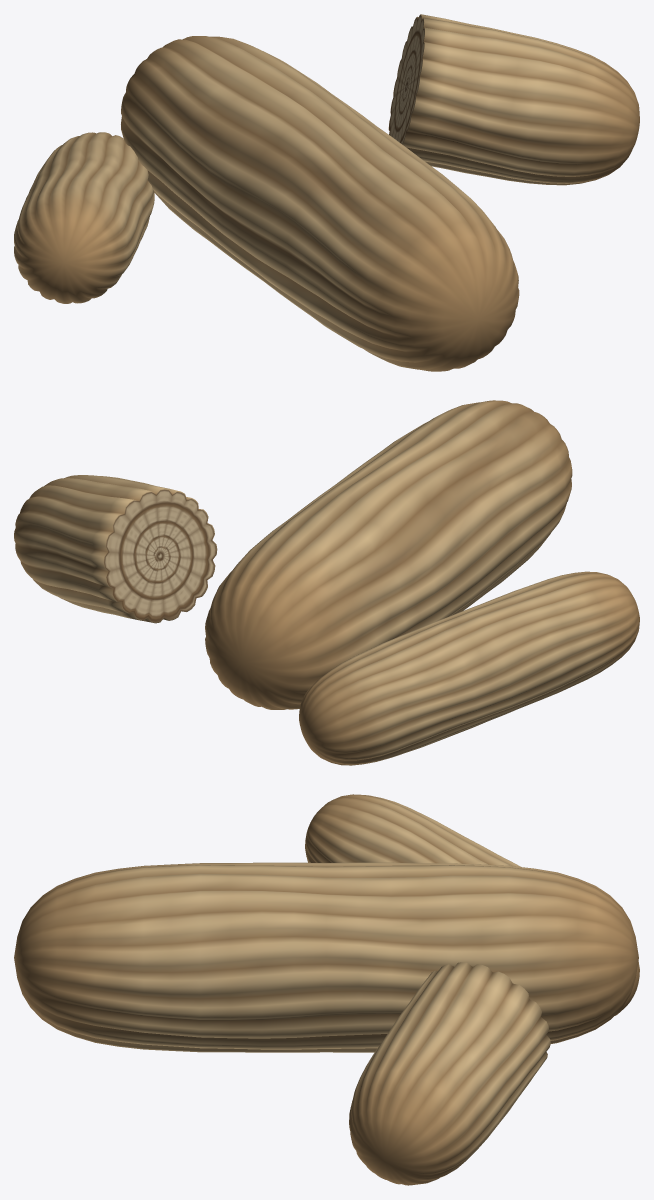
Rendered from SchwagerinaHawkinsi.fbx.
3 views of the same model, one above another, from view 1: azimuth 30°, elevation 25°; view 2: azimuth 150°, elevation 25°; view 3: azimuth 270°, elevation 25° (orthographic). The views are drawn at different scales.
Visible parts, largest first — view 1: SchwagerinaHawkinsi; view 2: SchwagerinaHawkinsi; view 3: SchwagerinaHawkinsi.
Boxes of the visible parts, x1=… form: SchwagerinaHawkinsi: x1=14, y1=14, x2=639, y2=371; SchwagerinaHawkinsi: x1=14, y1=400, x2=639, y2=765; SchwagerinaHawkinsi: x1=14, y1=794, x2=639, y2=1185.
Size of the model in its own units: 2.28 by 0.6593 by 1.97.
